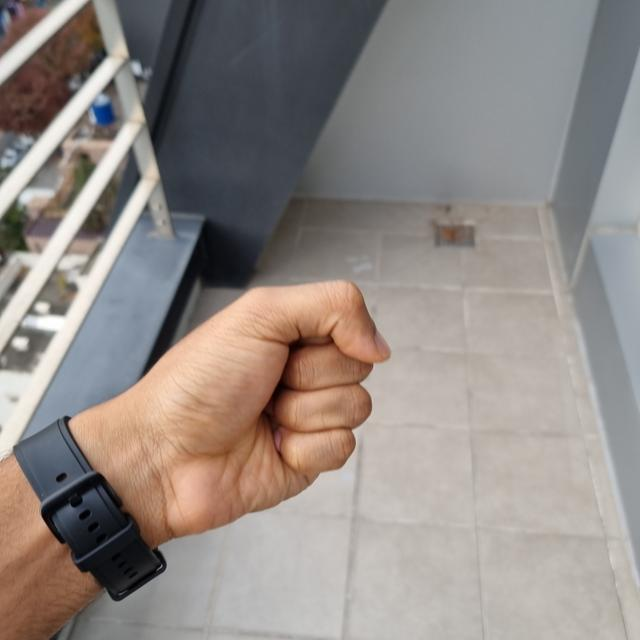Rock: (75, 282, 389, 539)
